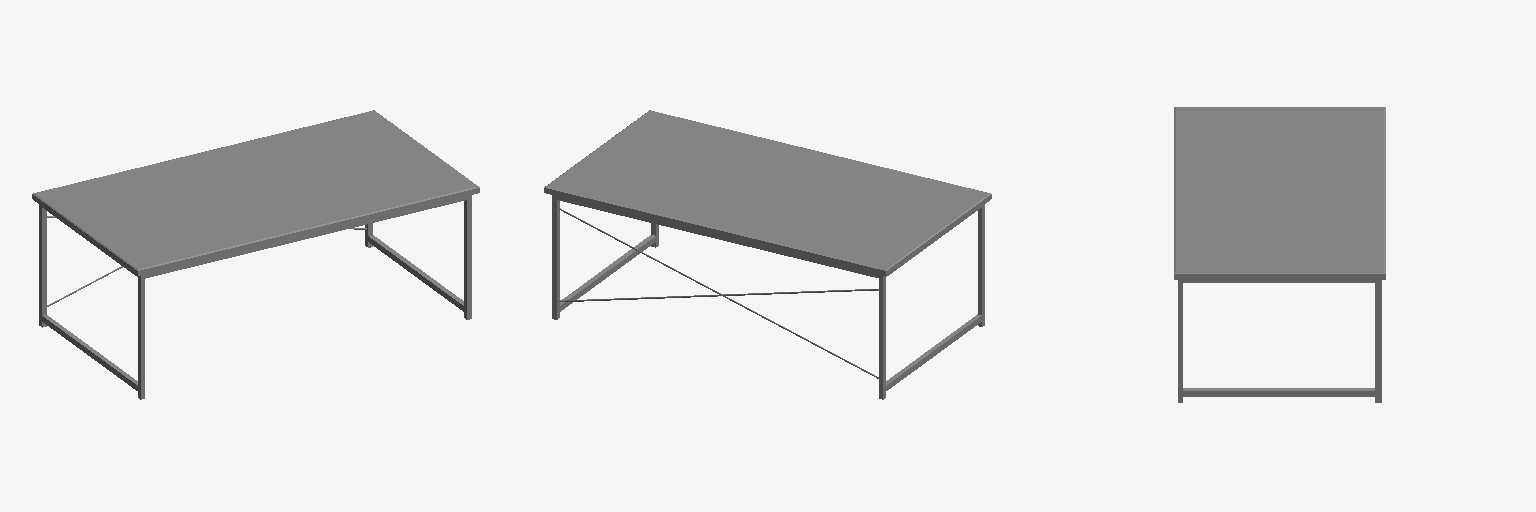
The model's file is Desk.obj.
3 views of the same model, side by side, from view 1: azimuth 30°, elevation 25°; view 2: azimuth 150°, elevation 25°; view 3: azimuth 270°, elevation 25° (orthographic).
Visible parts, largest first — view 1: Box003; view 2: Box003; view 3: Box003.
Part boxes in pixels (bbox=[...]): Box003: bbox=[32, 110, 479, 399]; Box003: bbox=[544, 110, 991, 399]; Box003: bbox=[1174, 107, 1385, 402].
Size of the model in its own units: 392 by 145 by 210.